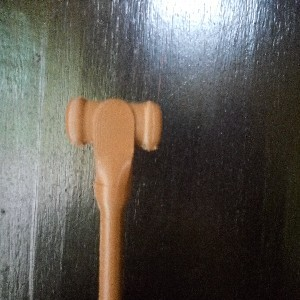palu: (66, 96, 165, 300)
